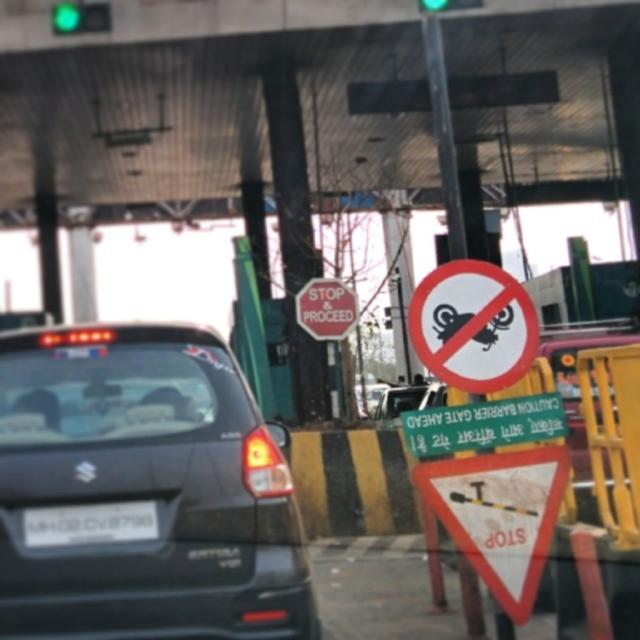Stop-sign: (292, 274, 360, 341)
